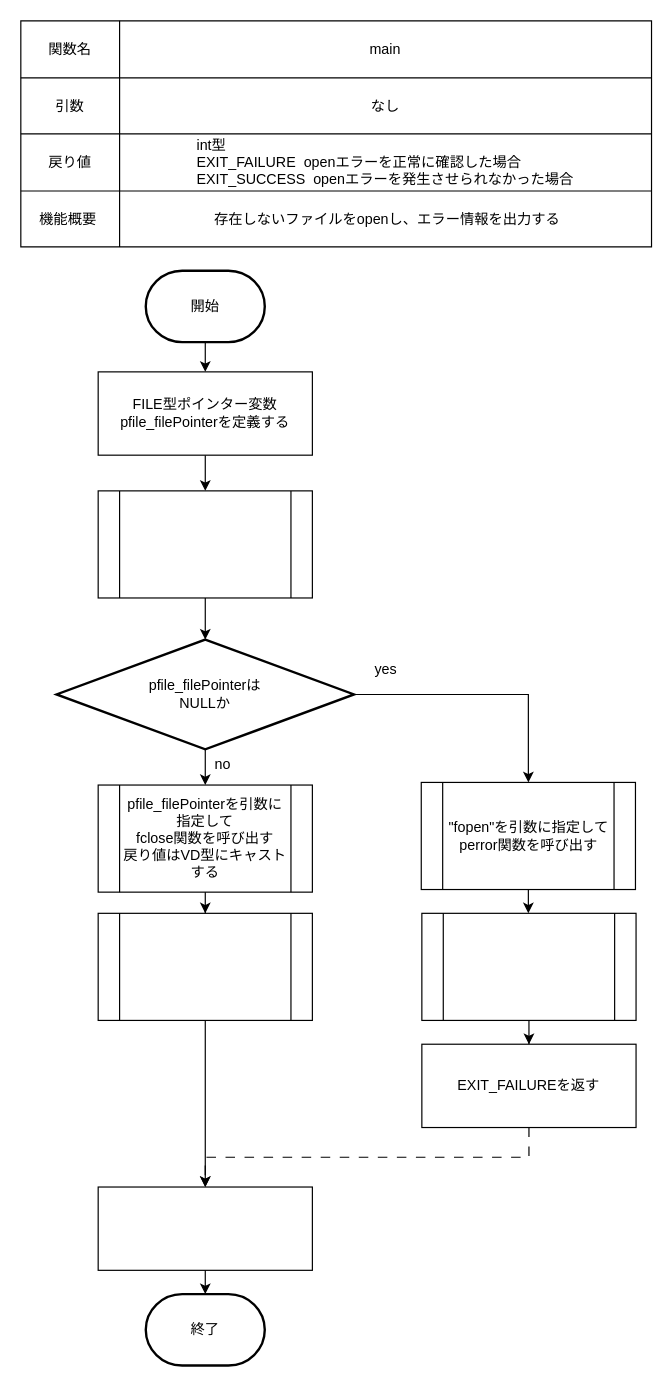
The diagram is 672 pixels wide and 1388 high, and some of its shapes have lost their labels. The box of each missing label's shape, as (x1, y1, x2, y2) in pixels:
EXIT_SUCCESSを返す: (97, 1186, 312, 1270)
printf("errno = %d\n", errno): (421, 912, 636, 1020)
printf("ファイルが存在するため、fopenエラーを発生させることができませんでした。\n");: (97, 912, 312, 1020)
TARGET_FILE_PATH、FILE_OPEN_MODEを 引数に指定してfopen関数を呼び出し、 戻り値をpfile_filePointerに代入する: (97, 490, 312, 598)
